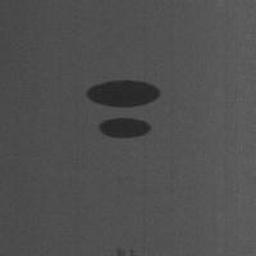Oil spot: (84, 78, 163, 110), (97, 116, 152, 140), (115, 248, 136, 256)
